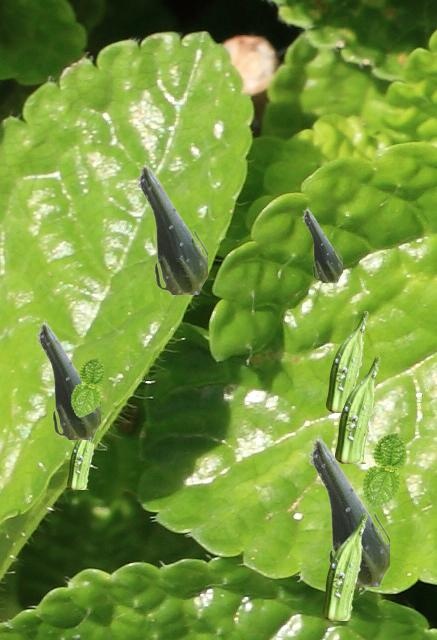okra: (308, 434, 388, 585), (136, 161, 206, 293), (36, 319, 99, 438), (322, 513, 366, 619), (335, 356, 379, 462), (326, 311, 367, 411), (302, 207, 341, 281), (67, 439, 95, 488)
